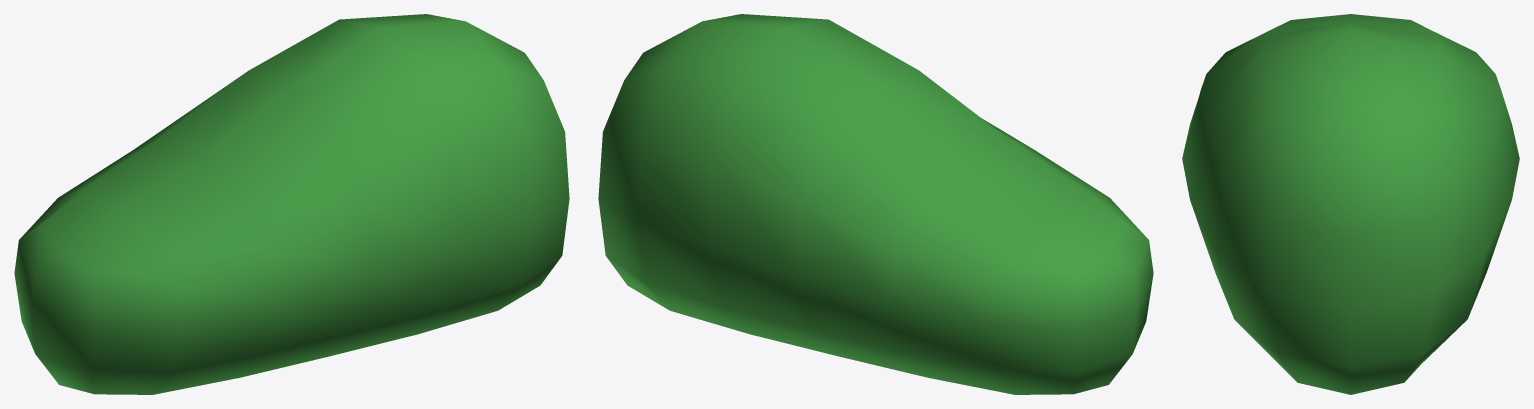
The model's file is bush_002.fbx.
3 views of the same model, side by side, from view 1: azimuth 30°, elevation 25°; view 2: azimuth 150°, elevation 25°; view 3: azimuth 270°, elevation 25° (orthographic). The views are drawn at different scales.
Visible parts, largest first — view 1: bush.002; view 2: bush.002; view 3: bush.002.
Part boxes in pixels (x1,y1,x2,y2): bush.002: (14, 14, 569, 394); bush.002: (598, 14, 1153, 394); bush.002: (1182, 14, 1519, 394).
Size of the model in its own units: 326 by 177 by 175.
